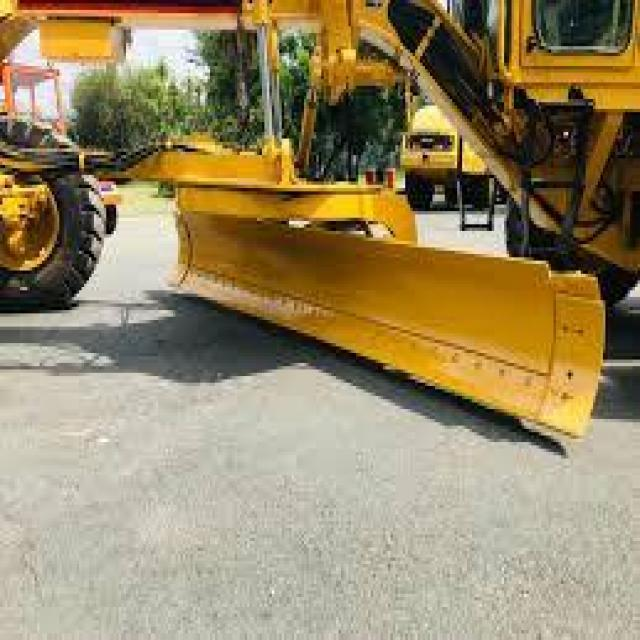Grader: (0, 0, 637, 478)
